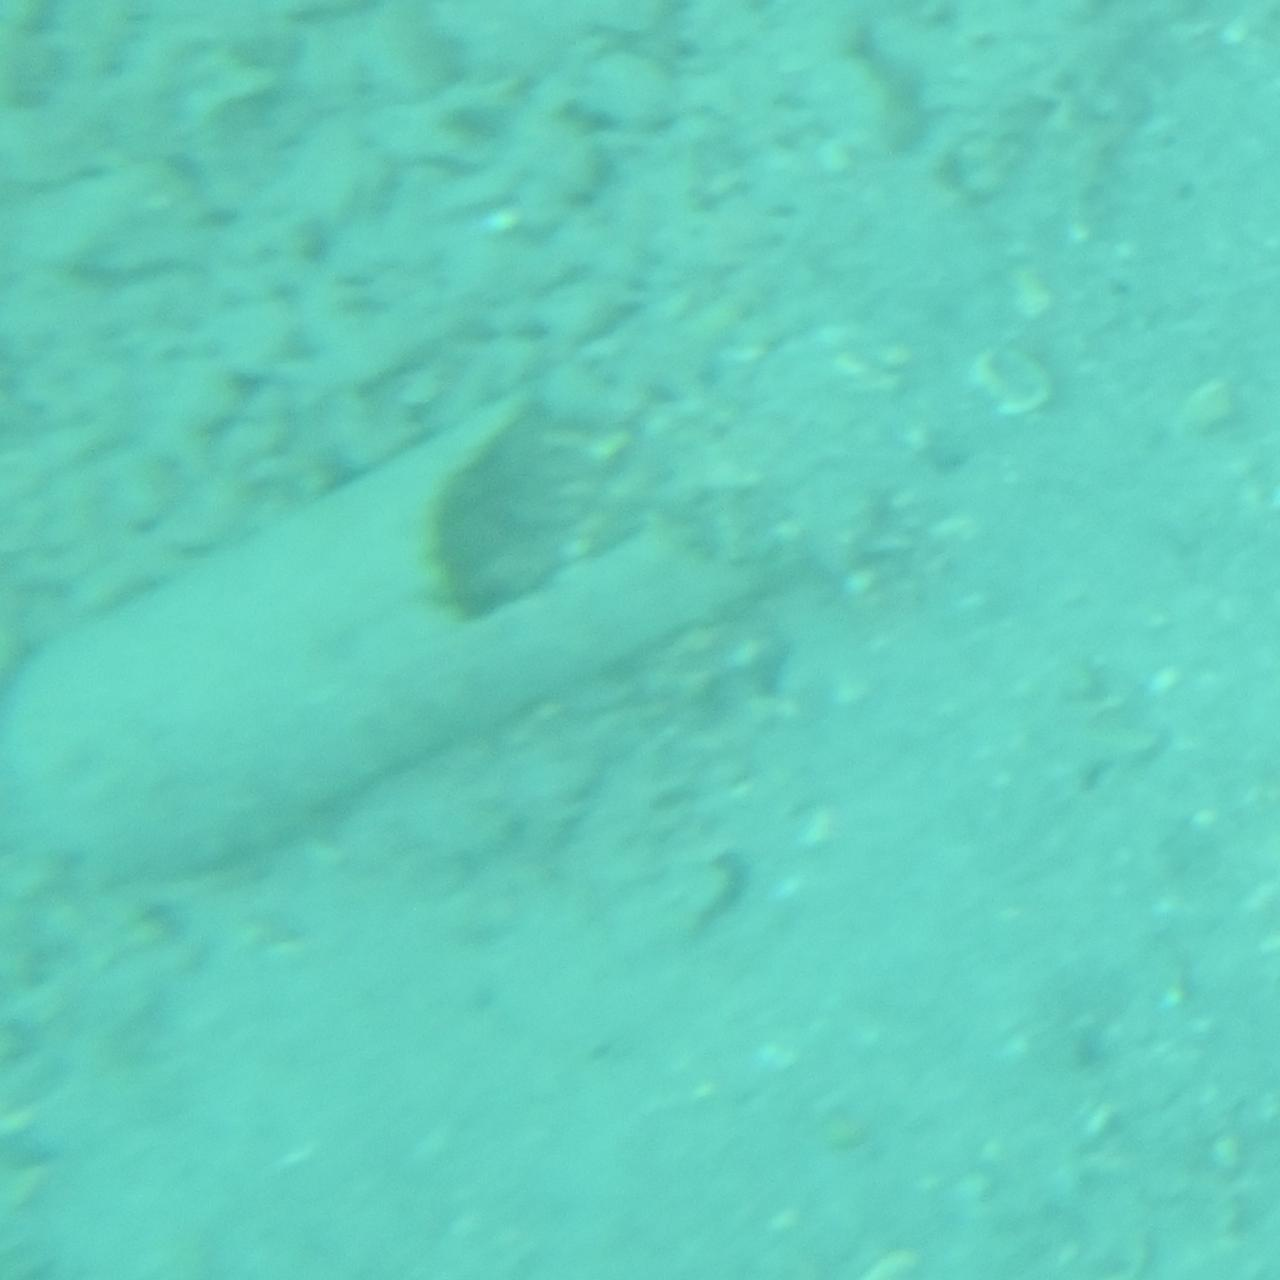Rifiuto: (0, 388, 765, 892)
